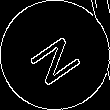N_NE: (23, 24, 87, 86)
